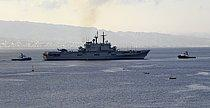MIL_Ship: (42, 29, 150, 60)
